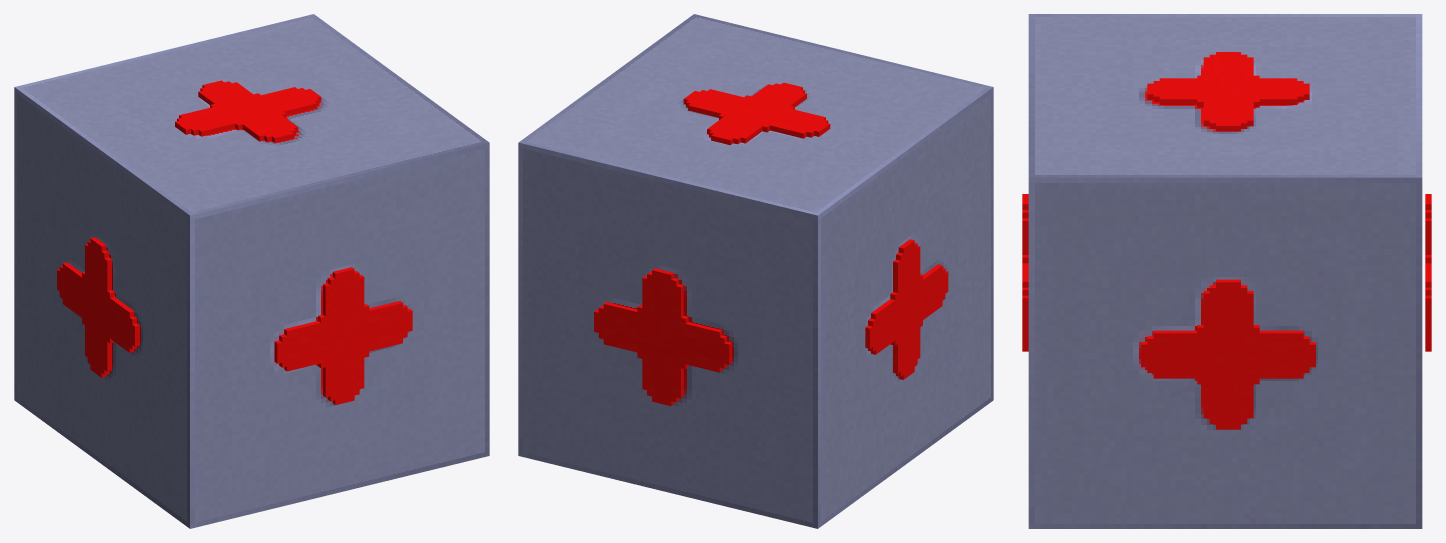
File: Laser Controller.obj
3 views of the same model, side by side, from view 1: azimuth 30°, elevation 25°; view 2: azimuth 150°, elevation 25°; view 3: azimuth 270°, elevation 25° (orthographic). The views are drawn at different scales.
Parts seen in each view (by area): view 1: Base Block, Redstone Lens; view 2: Base Block, Redstone Lens; view 3: Base Block, Redstone Lens.
Boxes of the visible parts, bbox=[...] form: Base Block: bbox=[14, 14, 489, 528]; Redstone Lens: bbox=[57, 80, 412, 405]; Base Block: bbox=[518, 14, 993, 528]; Redstone Lens: bbox=[594, 82, 948, 405]; Base Block: bbox=[1028, 14, 1422, 528]; Redstone Lens: bbox=[1022, 52, 1431, 429].
Bounding box in the file's own units: 1 × 1 × 1.02.
1 material, 1 textured.
